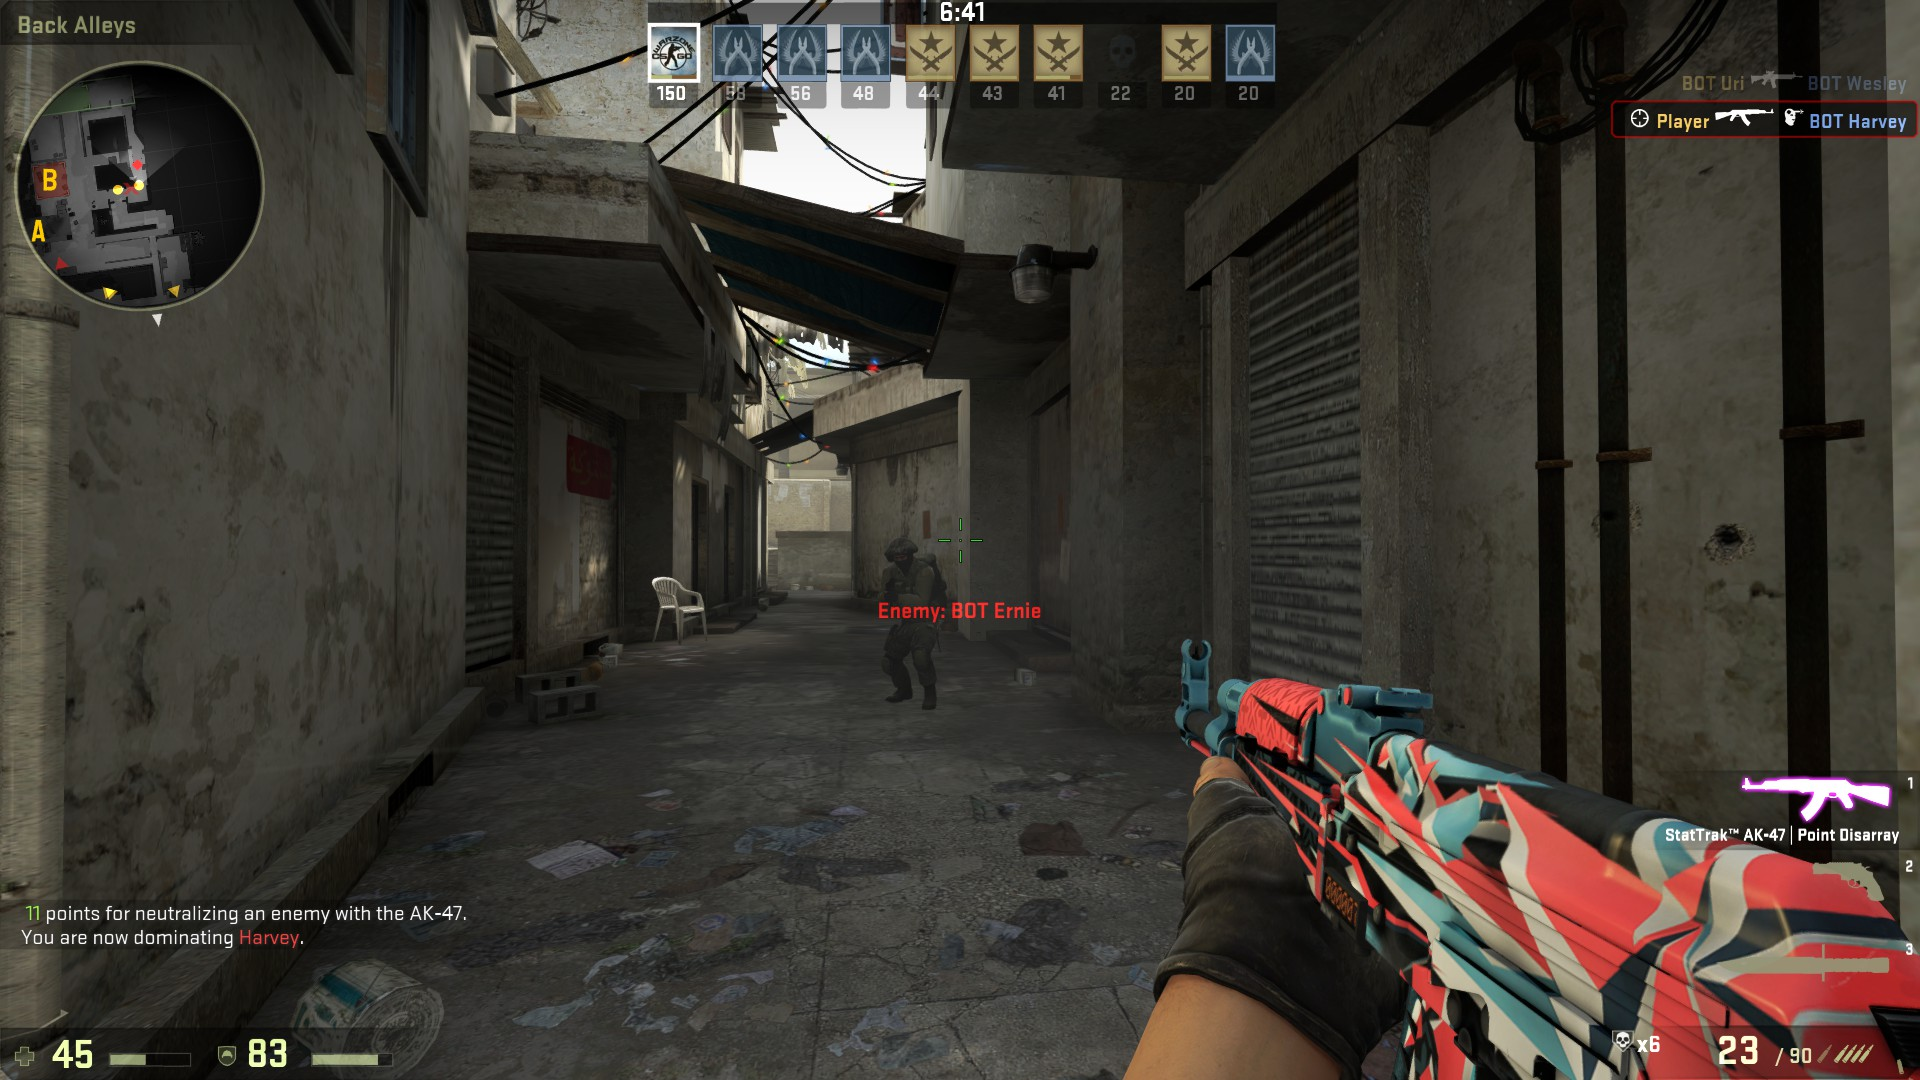c: (874, 537, 944, 709)
ch: (884, 537, 923, 572)
